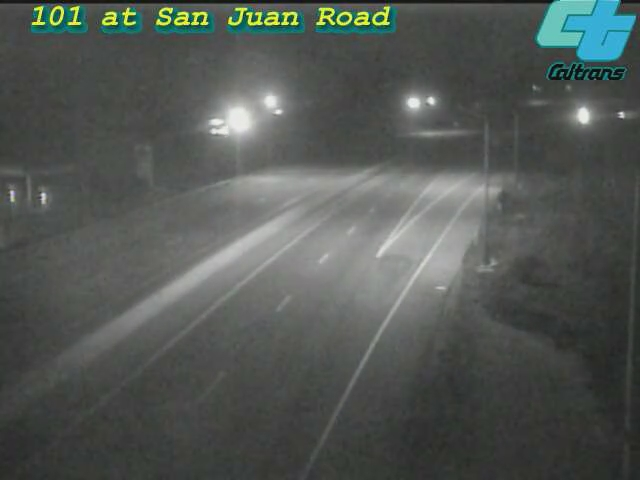vehicle: (558, 91, 608, 141)
